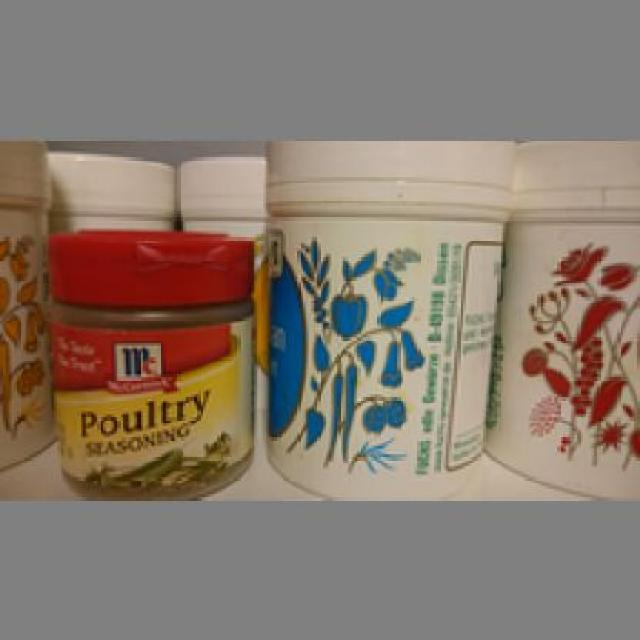Spices: (262, 140, 515, 497), (42, 225, 258, 498), (480, 139, 637, 492)
